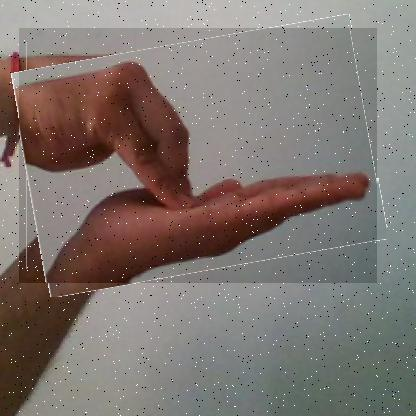Z: (20, 28, 380, 284)
